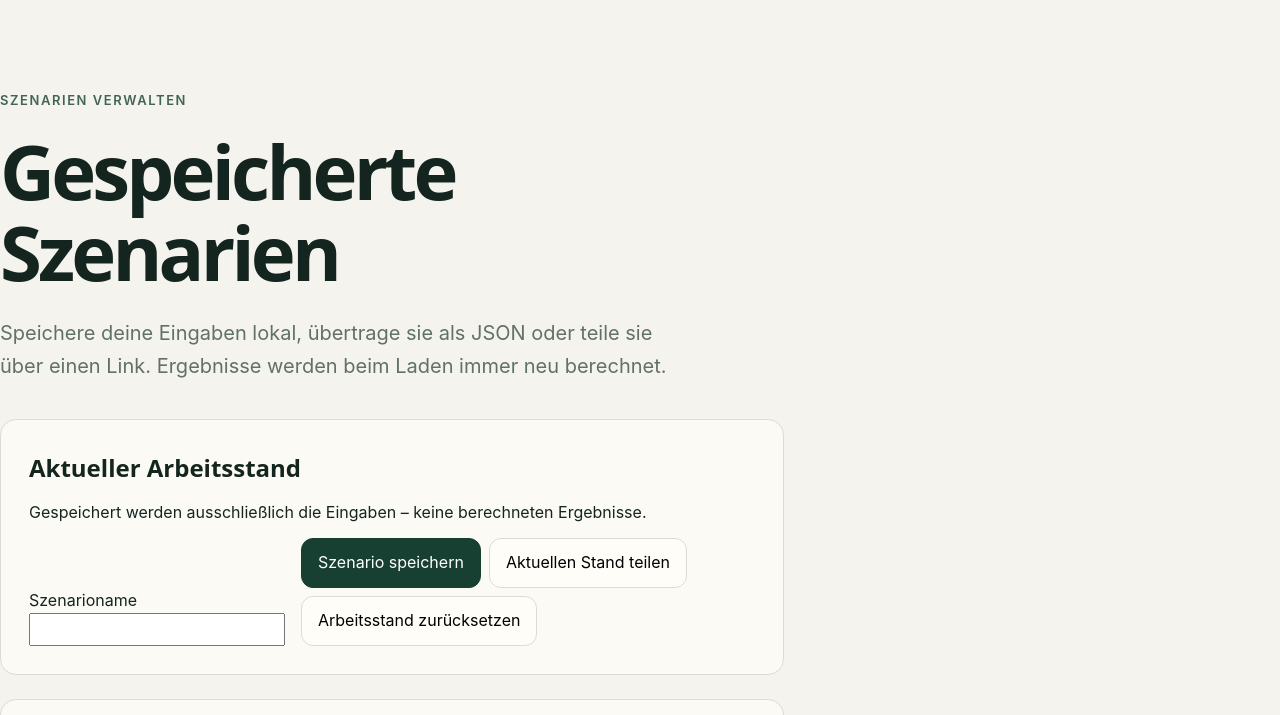
Test: ScenariosPage › requires an explicit privacy acknowledgement before sharing or exporting
The width and height of the screenshot is (1280, 715).
Type "Private Adresse" into the field labelled "Szenarioname".
click(157, 629); type("Private Adresse")  # box [29,613,285,646]
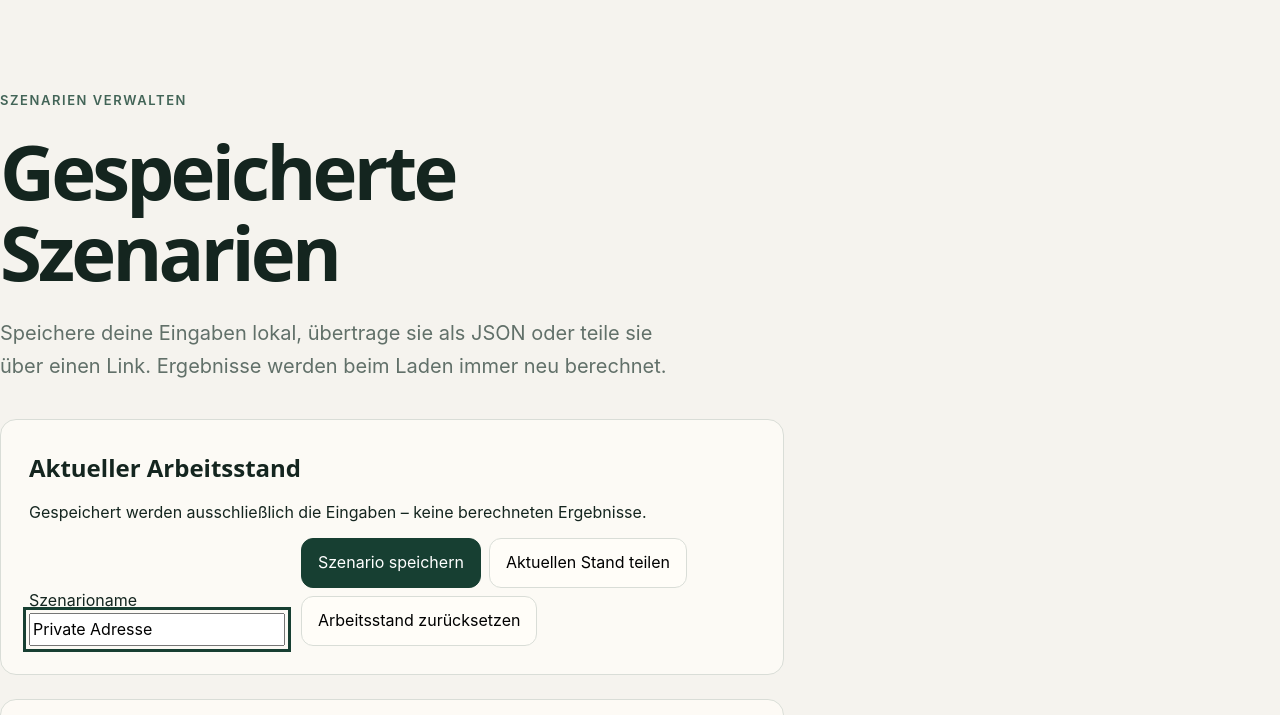
Click the button "Szenario speichern".
click(391, 562)  # box [301,538,481,588]
(page scrolled)
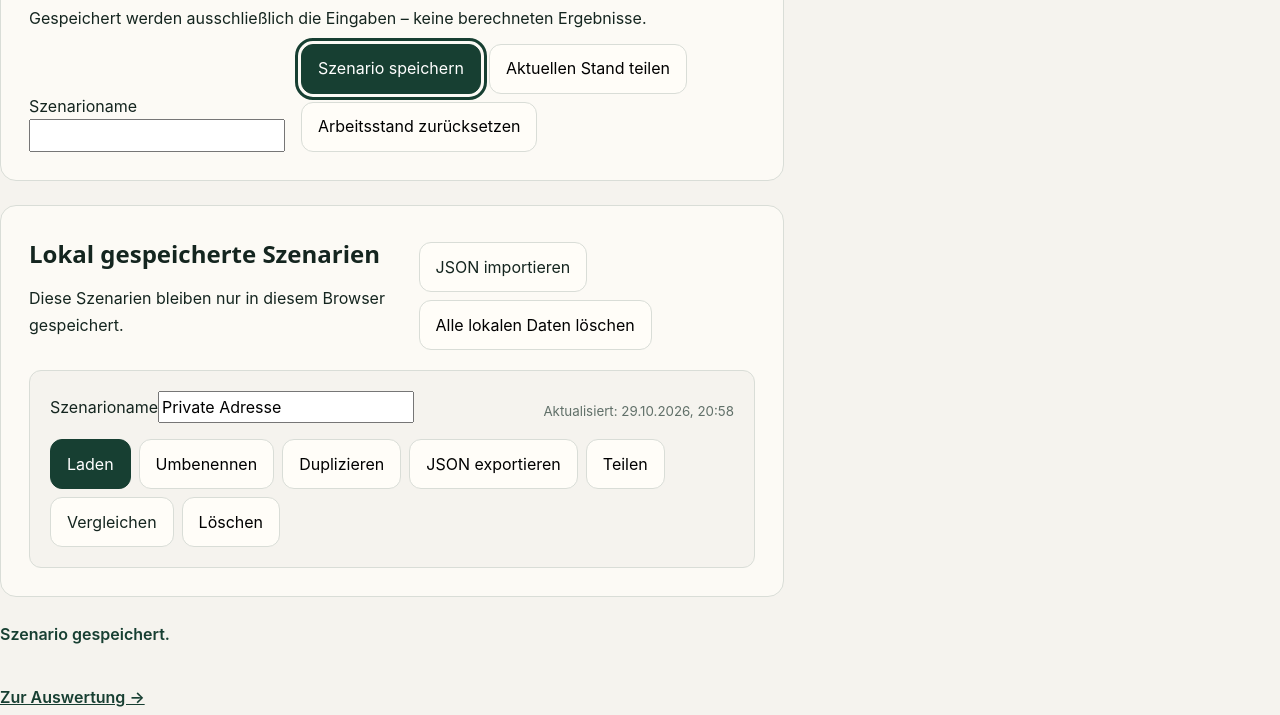
Click the button "Teilen".
click(625, 464)  # box [586,439,665,489]
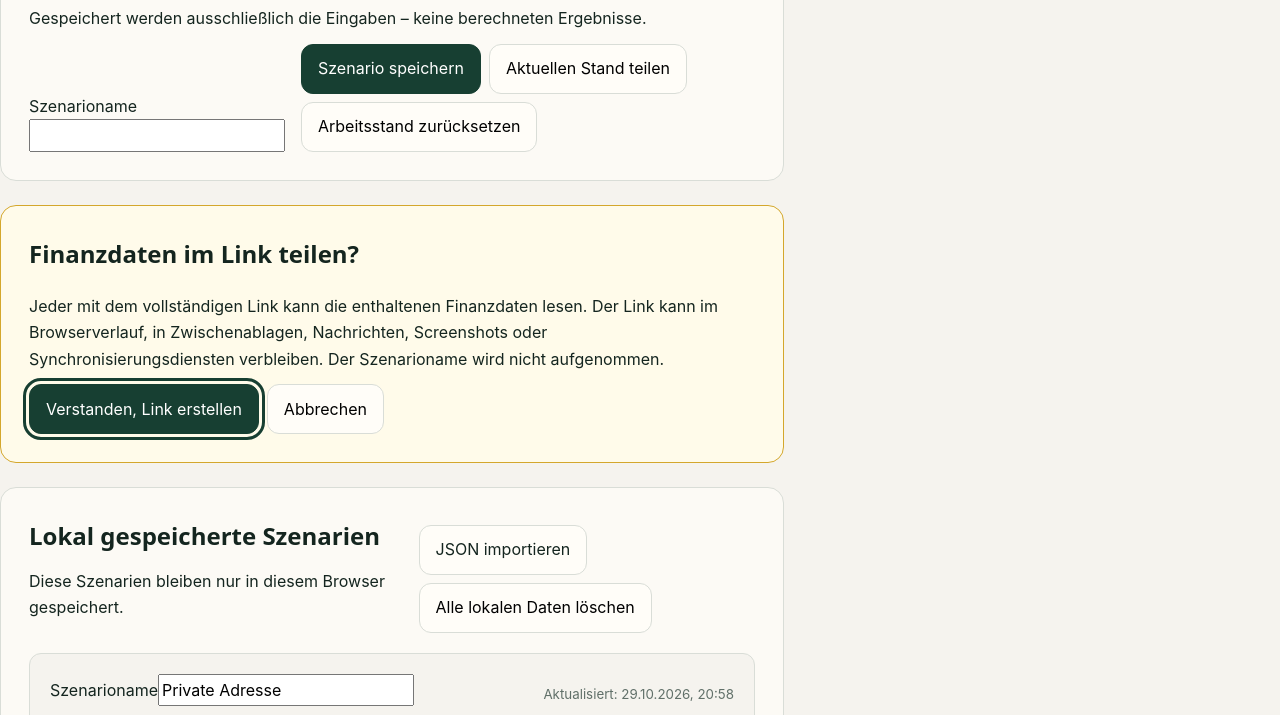
Expected: the text "Jeder mit dem vollständigen Link" is shown, [29,296,718,369]
Click the button "Verstanden, Link erstellen".
click(144, 409)  # box [29,384,259,434]
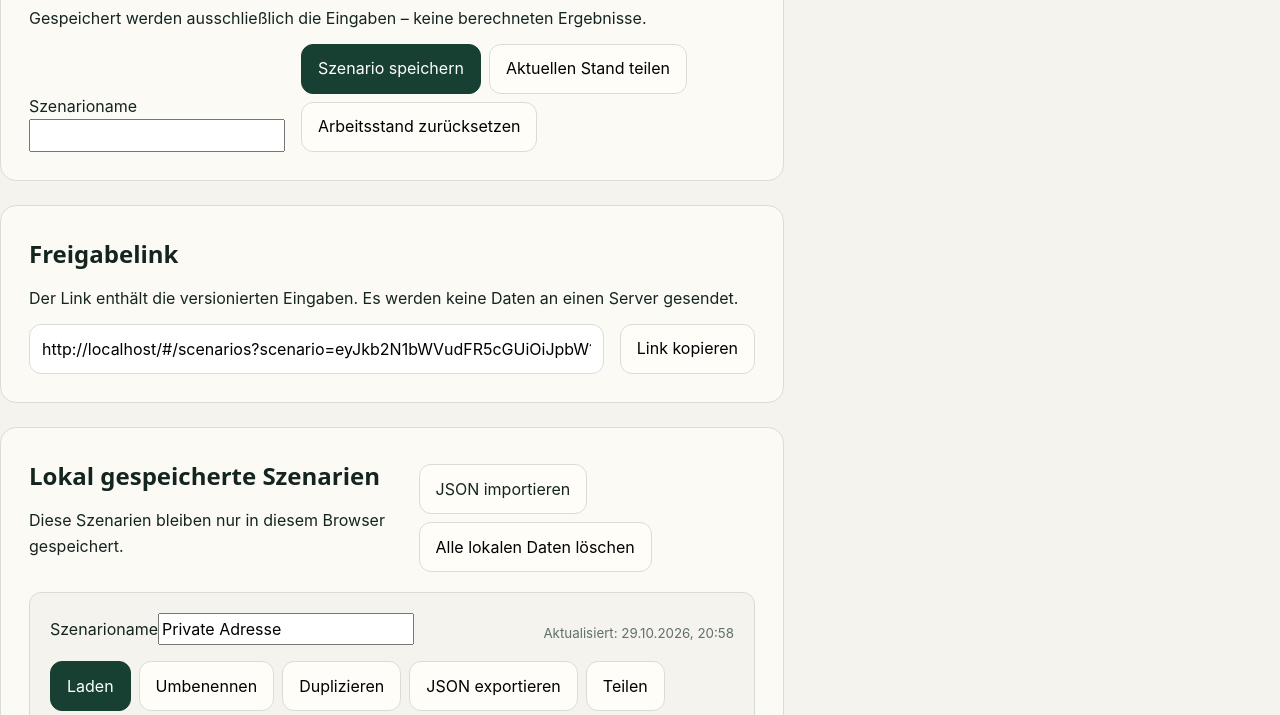
Expected: the field named "Freigabelink für das Szenario" is shown, [29,324,604,374]
Click the button "JSON exportieren".
click(494, 686)  # box [409,661,578,711]
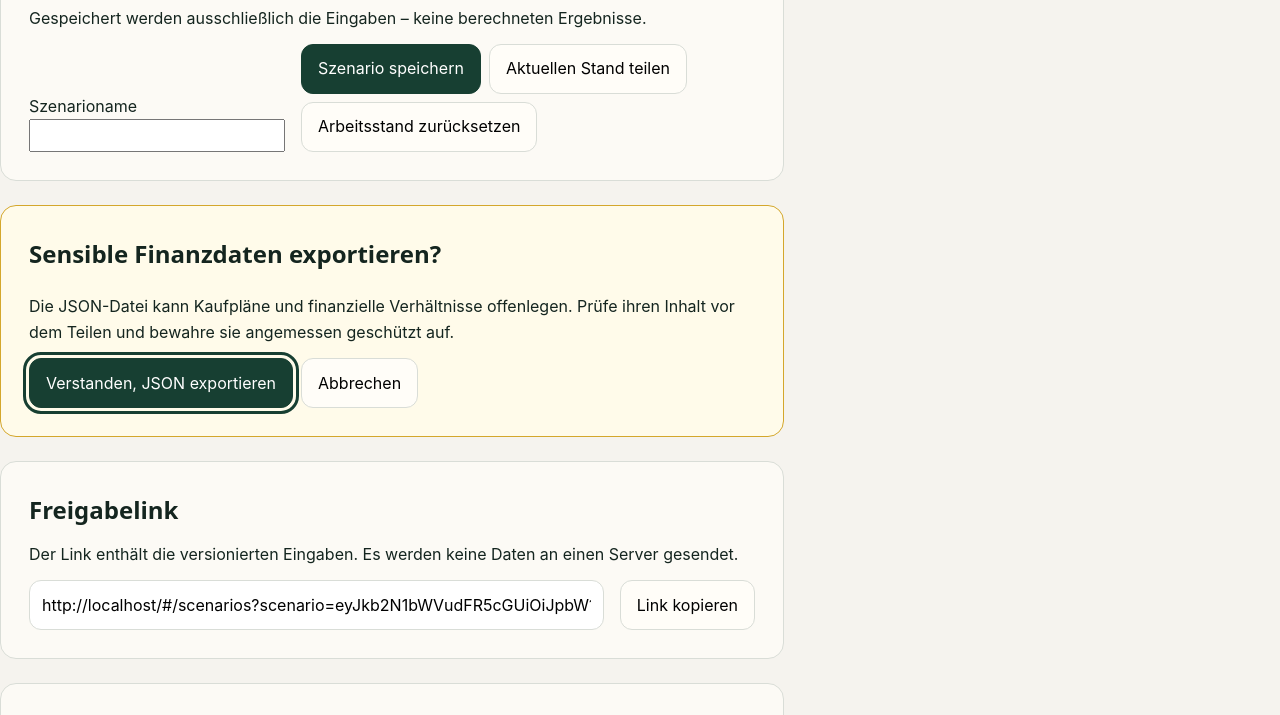
Expected: the text "Kaufpläne und finanzielle Verhältnisse" is shown, [29,296,735,342]
